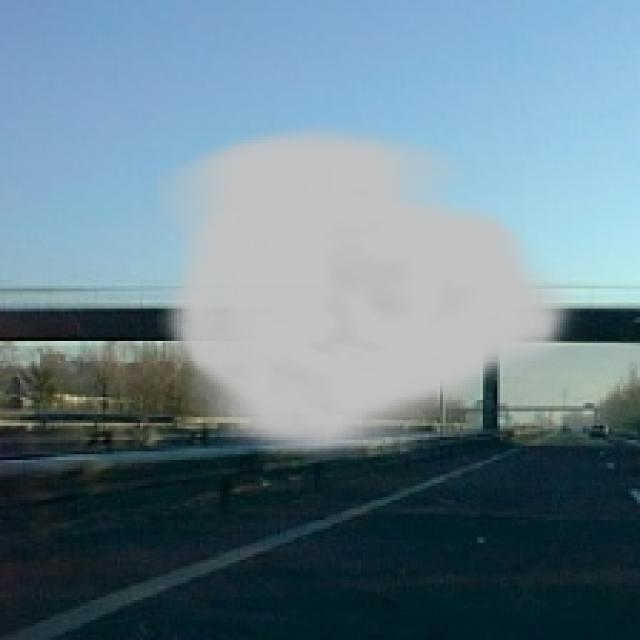smoke: (157, 123, 580, 468)
